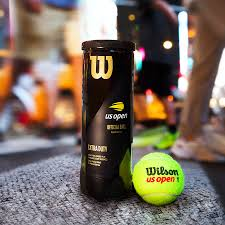tennis_ball: (132, 152, 185, 207)
